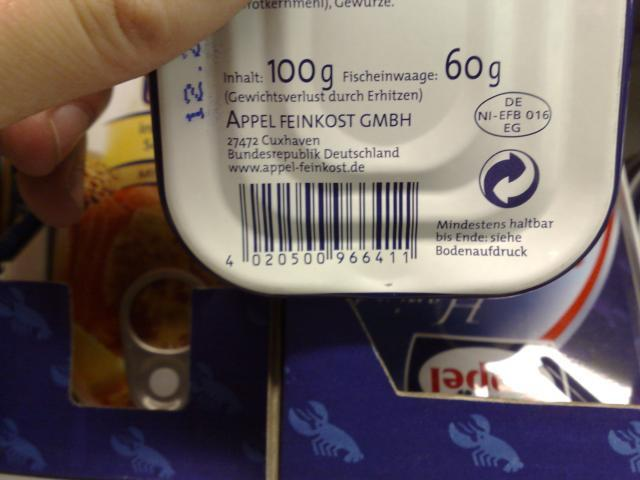Barcode: (216, 174, 430, 272)
